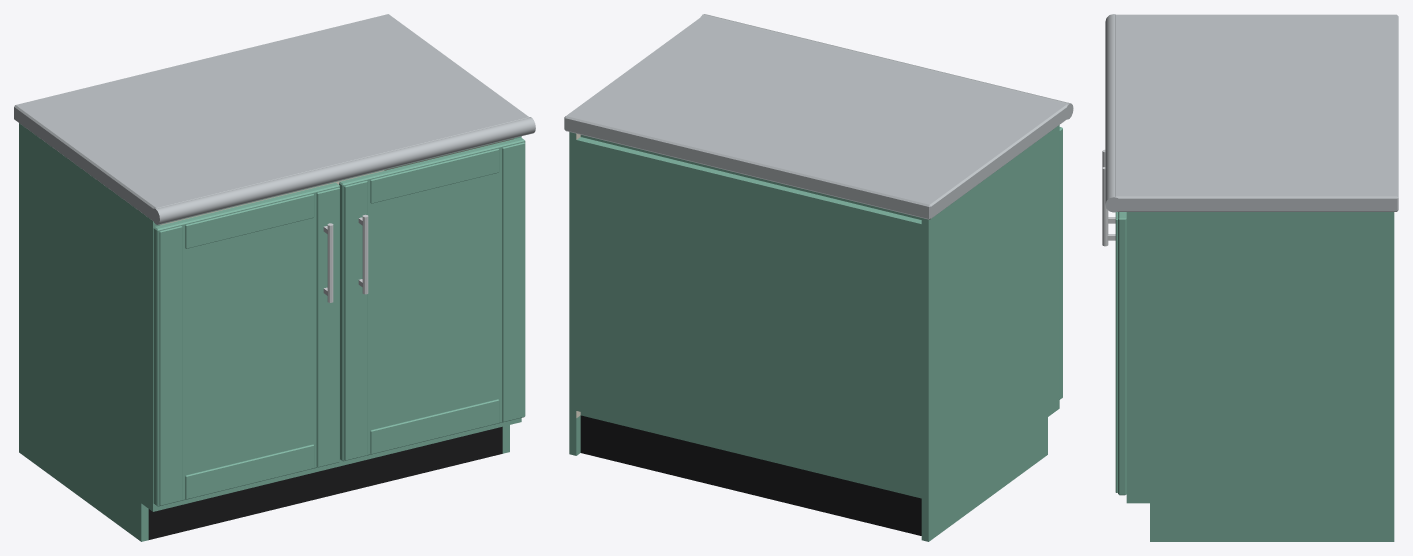
The model's file is cupboard_base.glb.
3 views of the same model, side by side, from view 1: azimuth 30°, elevation 25°; view 2: azimuth 150°, elevation 25°; view 3: azimuth 270°, elevation 25° (orthographic). The views are drawn at different scales.
Visible parts, largest first — view 1: cupboard_base, door_L, door_R; view 2: cupboard_base, door_L; view 3: cupboard_base, door_R.
Part boxes in pixels (x1,y1,x2,y2): cupboard_base: (14,14,535,541); door_L: (153,182,339,506); door_R: (339,137,525,461); cupboard_base: (564,14,1073,541); door_L: (1059,127,1062,399); cupboard_base: (1105,14,1398,541); door_R: (1102,167,1126,495).
Bounding box in the file's own units: 1.02 × 0.9 × 0.697.
